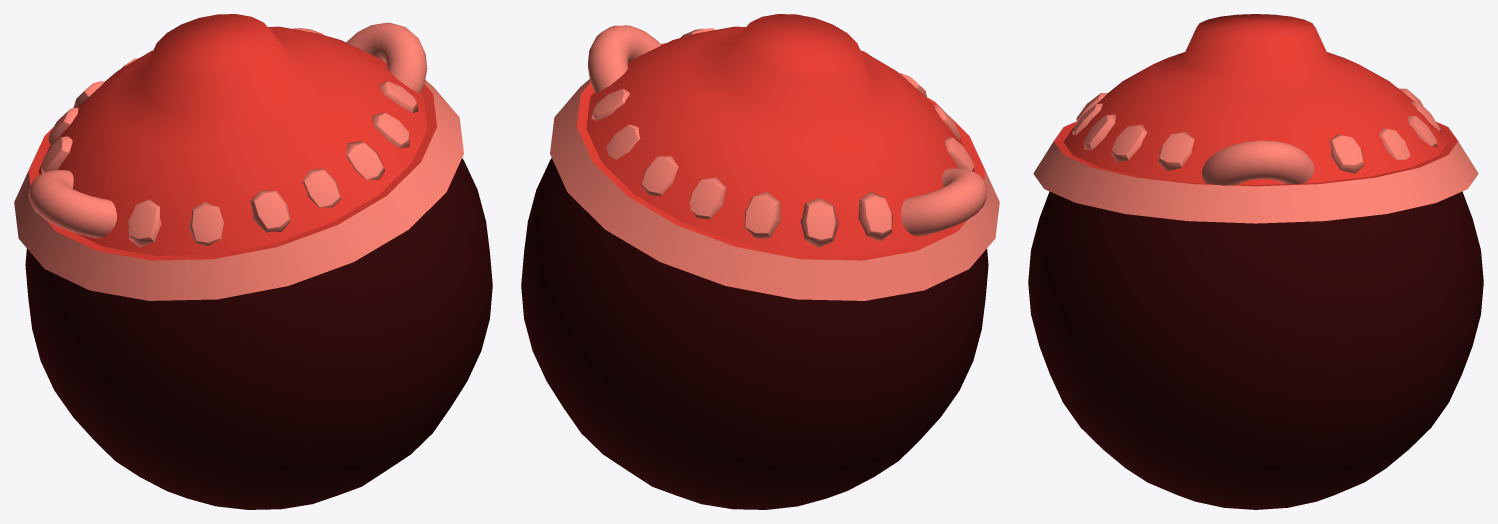
The model's file is bolitas5.2.fbx.
The picture shows the model from 3 angles, left to right: view 1: azimuth 30°, elevation 25°; view 2: azimuth 150°, elevation 25°; view 3: azimuth 270°, elevation 25°; orthographic projection. The views are drawn at different scales.
Parts seen in each view (by area): view 1: pasted__pasted__pasted__pSphere7, pasted__pasted__pasted__pSphere8, pasted__pasted__pasted__pasted__pTorus4, pasted__pasted__pasted__pTorus4, pasted__pasted__pasted__pasted__pCube1, pasted__pasted__pCube1, pasted__pasted__pasted__pCube1.001, pasted__pasted__pasted__pasted__pasted__pCube1, pasted__pasted__pasted__pasted__pasted__pasted__pCube1, pasted__pasted__pasted__pasted__pasted__pasted__pasted__pCub, pasted__pasted__pasted__pasted__pasted__pasted__pasted__ea5d, pasted__pasted__pasted__pasted__pasted__pasted__pasted__c180; view 2: pasted__pasted__pasted__pSphere7, pasted__pasted__pasted__pSphere8, pasted__pasted__pasted__pasted__pTorus4, pasted__pasted__pasted__pTorus4, pasted__pasted__pasted__pasted__pasted__pasted__pasted__c18., pasted__pasted__pasted__pasted__pasted__pasted__pasted__pCu., pasted__pasted__pasted__pasted__pasted__pasted__pasted__ea5d, pasted__pasted__pasted__pasted__pasted__pasted__pCube1.001, pasted__pasted__pasted__pasted__pasted__pCube1.001, pasted__pasted__pasted__pasted__pCube1.001, pasted__pasted__pasted__pCube1, pasted__pasted__pCube1; view 3: pasted__pasted__pasted__pSphere7, pasted__pasted__pasted__pSphere8, pasted__pasted__pasted__pTorus4, pasted__pasted__pasted__pasted__pasted__pasted__pasted__c180, pasted__pasted__pasted__pCube1, pasted__pasted__pasted__pasted__pasted__pasted__pasted__pCub, pasted__pasted__pasted__pasted__pCube1.001, pasted__pasted__pasted__pasted__pasted__pasted__pCube1.
Boxes of the visible parts, <box> form: pasted__pasted__pasted__pSphere7: <box>25,158,492,509</box>; pasted__pasted__pasted__pSphere8: <box>14,14,463,300</box>; pasted__pasted__pasted__pasted__pTorus4: <box>28,170,116,238</box>; pasted__pasted__pasted__pTorus4: <box>346,22,427,92</box>; pasted__pasted__pasted__pasted__pCube1: <box>250,190,290,232</box>; pasted__pasted__pCube1: <box>128,199,161,247</box>; pasted__pasted__pasted__pCube1.001: <box>189,202,223,245</box>; pasted__pasted__pasted__pasted__pasted__pCube1: <box>302,168,341,208</box>; pasted__pasted__pasted__pasted__pasted__pasted__pCube1: <box>345,141,384,179</box>; pasted__pasted__pasted__pasted__pasted__pasted__pasted__pCub: <box>372,112,409,148</box>; pasted__pasted__pasted__pasted__pasted__pasted__pasted__ea5d: <box>41,136,72,173</box>; pasted__pasted__pasted__pasted__pasted__pasted__pasted__c180: <box>379,81,418,113</box>; pasted__pasted__pasted__pSphere7: <box>521,158,988,509</box>; pasted__pasted__pasted__pSphere8: <box>550,14,999,300</box>; pasted__pasted__pasted__pasted__pTorus4: <box>901,168,987,236</box>; pasted__pasted__pasted__pTorus4: <box>588,25,661,92</box>; pasted__pasted__pasted__pasted__pasted__pasted__pasted__c18.: <box>800,197,838,247</box>; pasted__pasted__pasted__pasted__pasted__pasted__pasted__pCu.: <box>744,192,780,238</box>; pasted__pasted__pasted__pasted__pasted__pasted__pasted__ea5d: <box>858,191,892,241</box>; pasted__pasted__pasted__pasted__pasted__pasted__pCube1.001: <box>689,177,726,219</box>; pasted__pasted__pasted__pasted__pasted__pCube1.001: <box>641,156,678,195</box>; pasted__pasted__pasted__pasted__pCube1.001: <box>606,124,640,159</box>; pasted__pasted__pasted__pCube1: <box>591,89,629,120</box>; pasted__pasted__pCube1: <box>944,137,974,171</box>; pasted__pasted__pasted__pSphere7: <box>1028,191,1483,509</box>; pasted__pasted__pasted__pSphere8: <box>1033,14,1478,223</box>; pasted__pasted__pasted__pTorus4: <box>1201,140,1314,185</box>; pasted__pasted__pasted__pasted__pasted__pasted__pasted__c180: <box>1158,132,1194,171</box>; pasted__pasted__pasted__pCube1: <box>1329,134,1364,173</box>; pasted__pasted__pasted__pasted__pasted__pasted__pasted__pCub: <box>1111,124,1147,162</box>; pasted__pasted__pasted__pasted__pCube1.001: <box>1378,128,1410,160</box>; pasted__pasted__pasted__pasted__pasted__pasted__pCube1: <box>1083,114,1115,150</box>.
Size of the model in its own units: 210 by 218 by 200.
